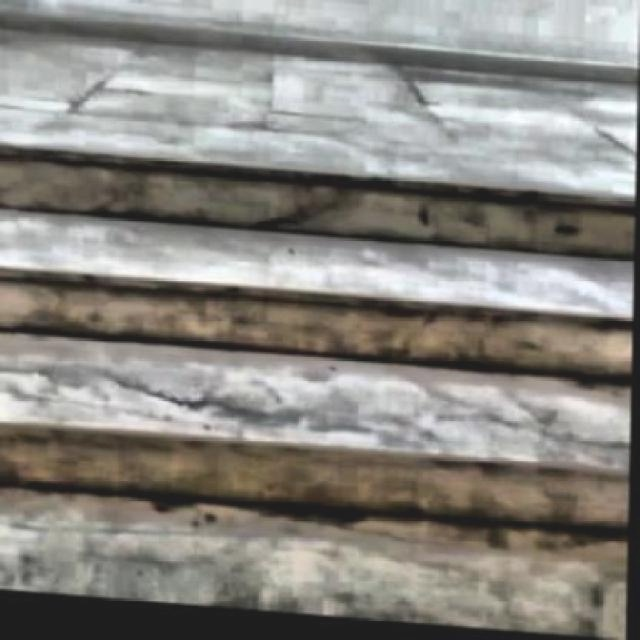stair: (1, 134, 637, 638)
